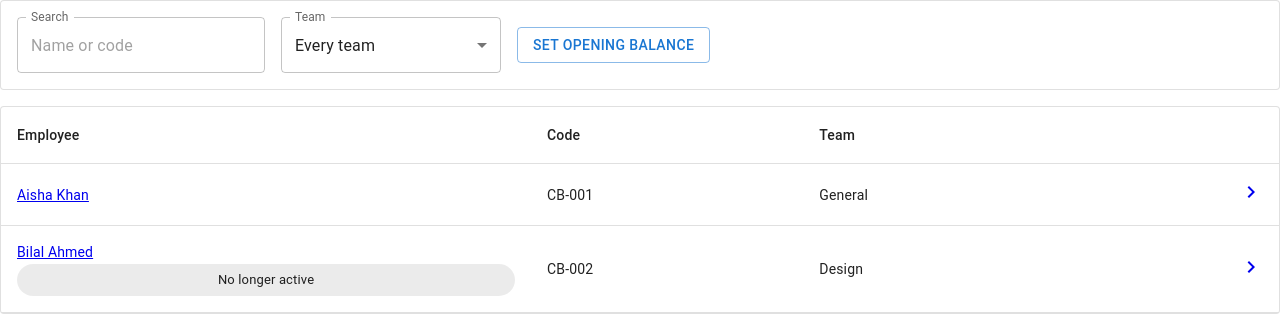
Test case: LeavePersonPicker › says so when nothing matches rather than rendering a bare table
The image size is (1280, 331).
Type "zzz" into the field labelled "Search" at {"x": 141, "y": 45}, box 17,17 -> 265,73
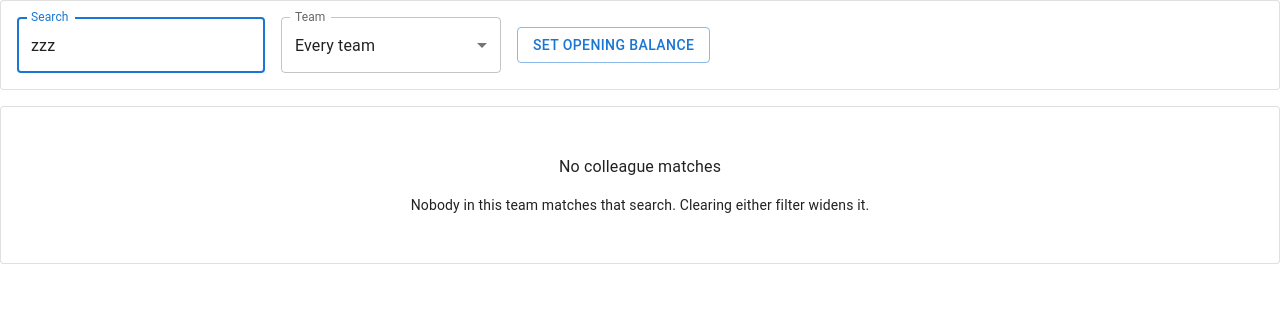
Check: the text "No colleague matches" is shown, box 559,155 -> 721,179
